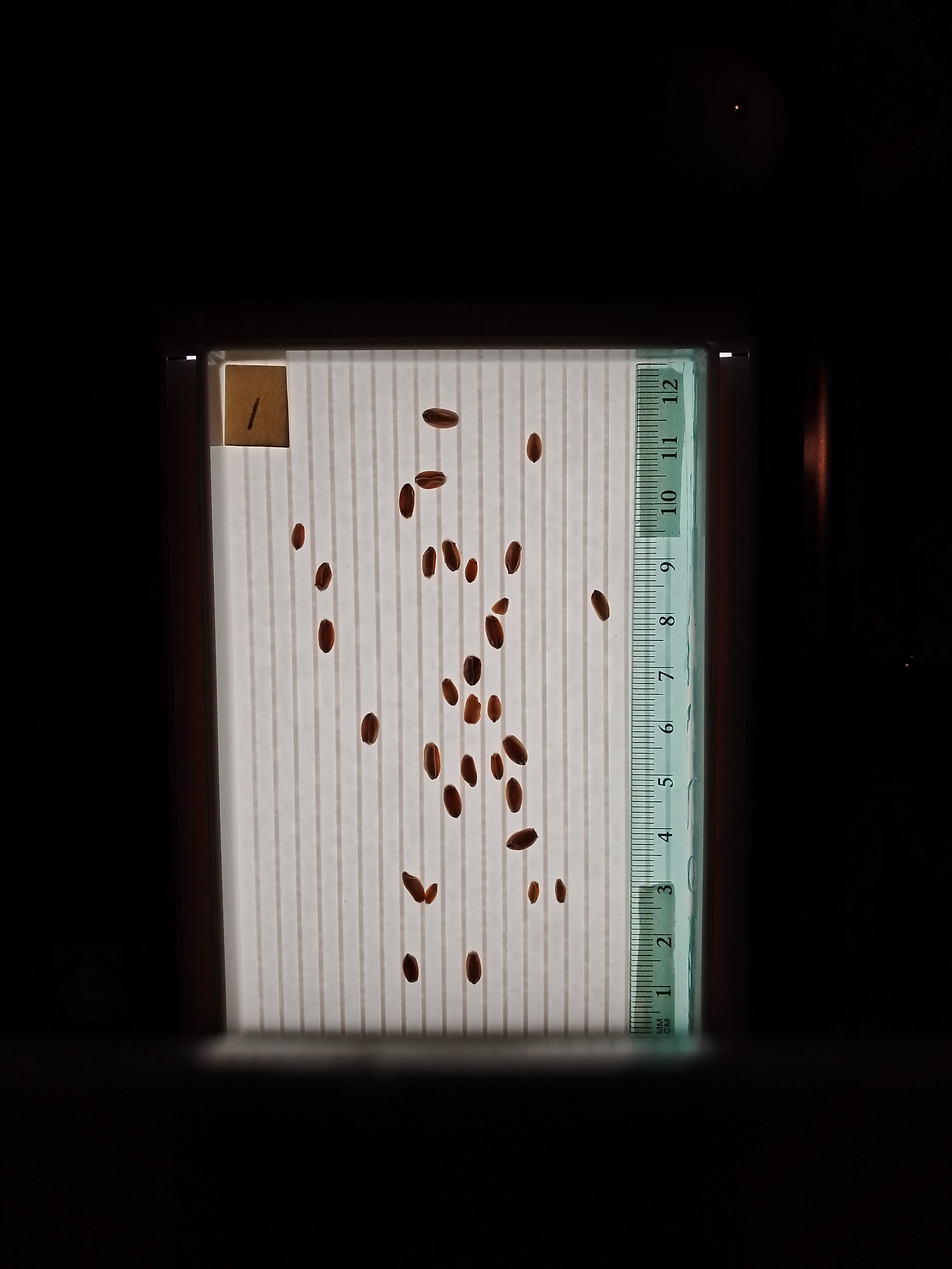seed mask: (423, 408, 459, 429), (507, 828, 537, 852), (402, 872, 424, 903), (504, 735, 527, 764), (423, 743, 440, 779), (361, 713, 380, 745), (486, 616, 504, 648), (416, 471, 446, 490), (318, 620, 335, 653), (442, 540, 460, 571), (444, 786, 461, 818), (399, 484, 415, 518), (591, 591, 609, 620), (314, 563, 332, 591), (461, 755, 477, 786), (506, 779, 521, 812), (402, 954, 419, 983), (464, 656, 481, 685), (506, 542, 521, 574), (466, 953, 481, 984), (527, 434, 542, 462), (422, 547, 436, 577), (442, 679, 458, 705), (465, 696, 480, 723), (487, 696, 502, 721), (291, 525, 305, 549), (491, 754, 504, 779), (424, 884, 438, 904), (465, 559, 477, 582), (492, 598, 508, 615), (528, 882, 539, 903), (556, 880, 566, 902)
